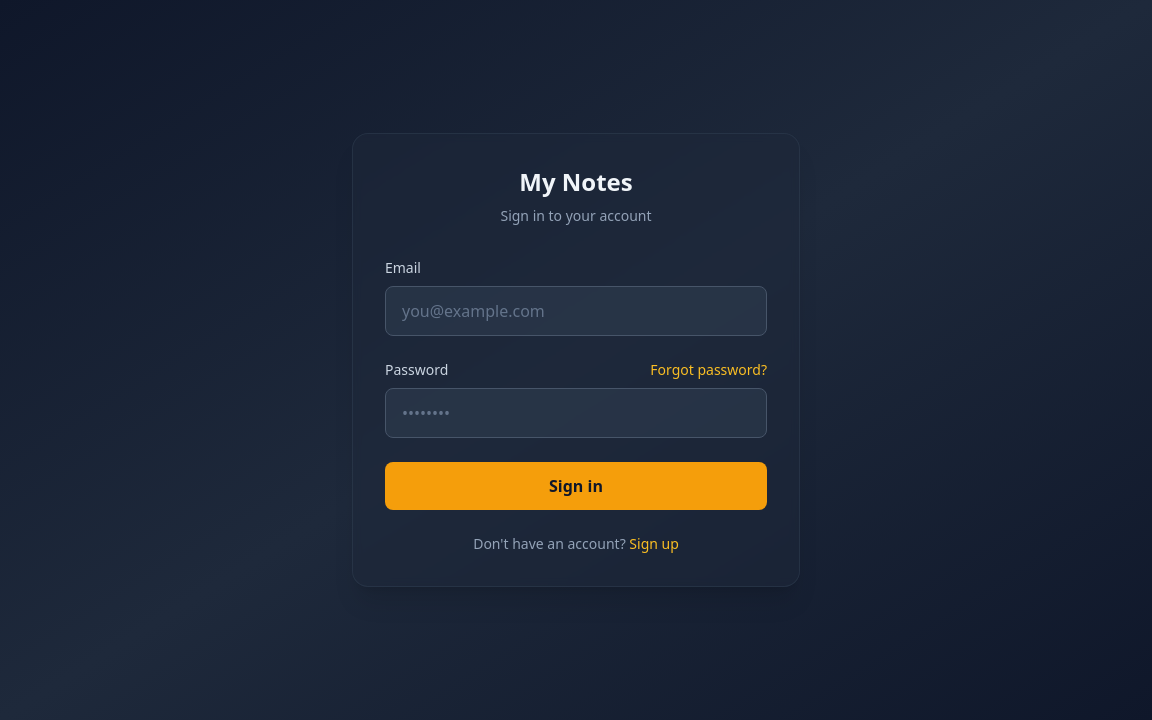
Scenario: Login › shows error message when login fails
The width and height of the screenshot is (1152, 720).
Type "a@b.com" into the field labelled "Email" at (576, 311), box [385, 286, 767, 336]
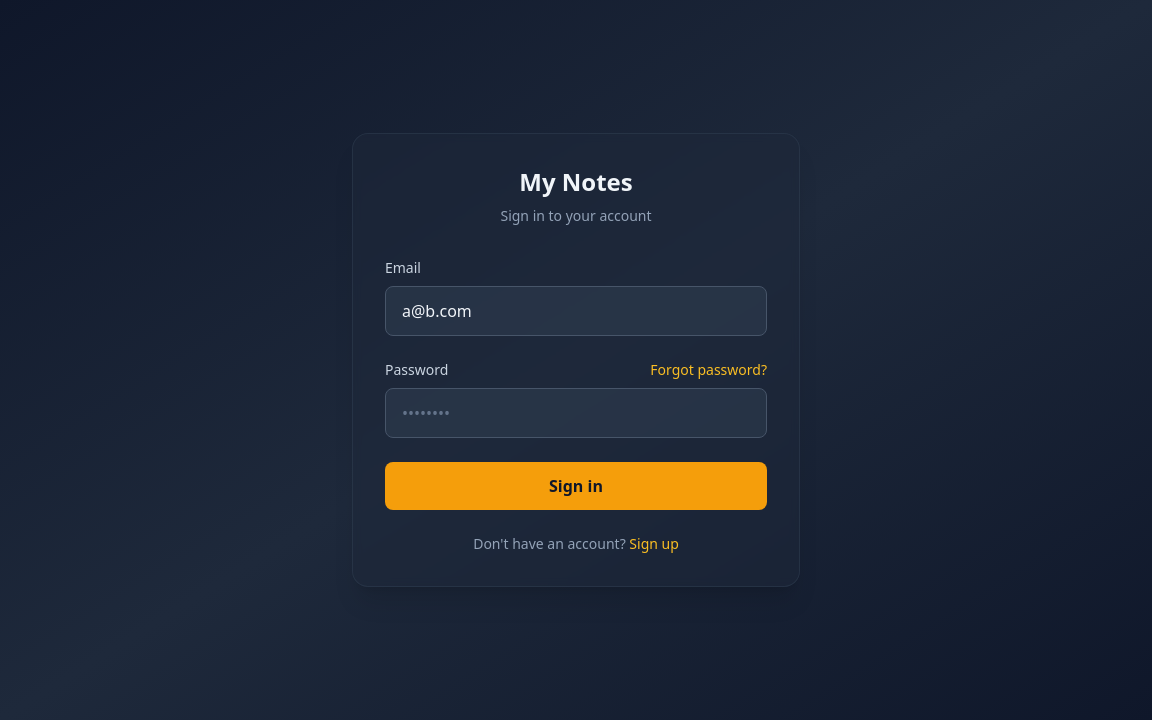
Type "wrong" into the password field labelled "Password" at (576, 413), box [385, 388, 767, 438]
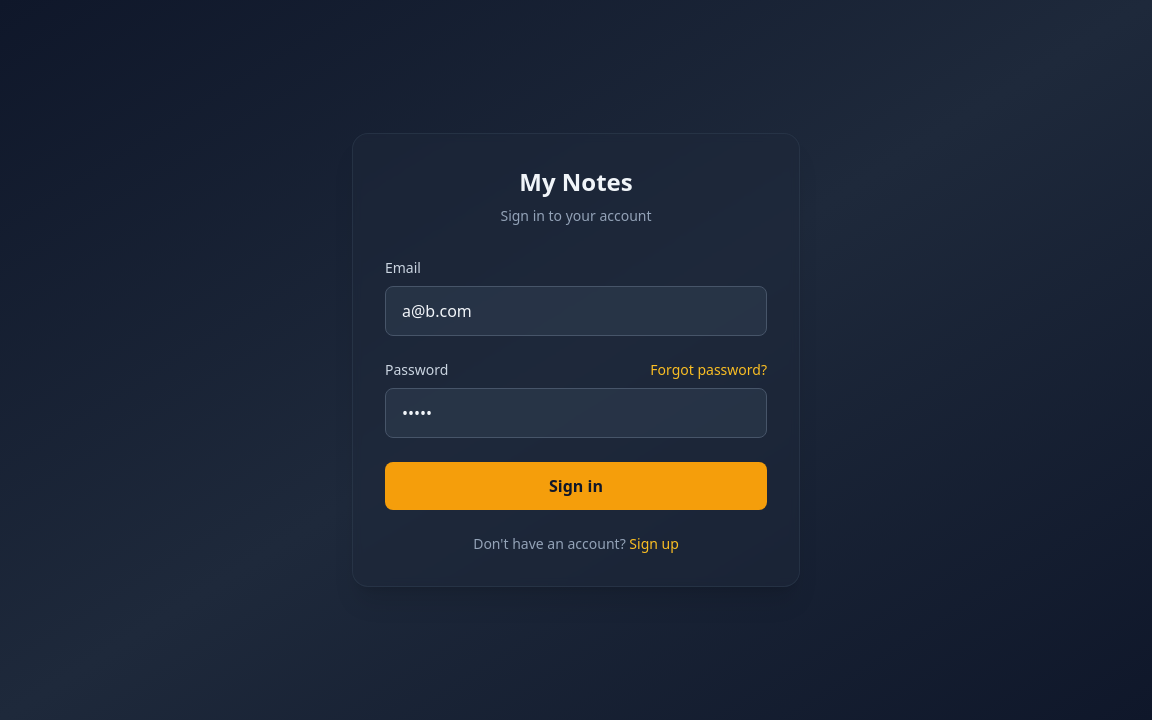
Click the button "Sign in" at (576, 486), box [385, 462, 767, 510]
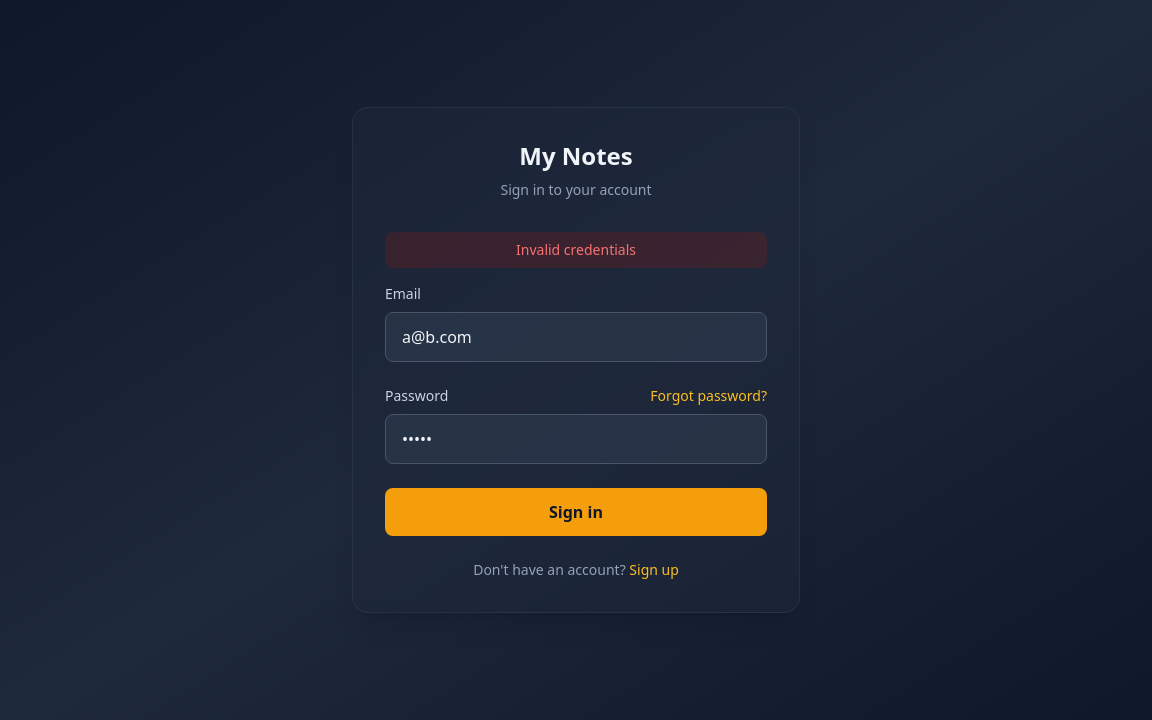
Expected: the text "Invalid credentials" is shown, [385, 232, 767, 268]
